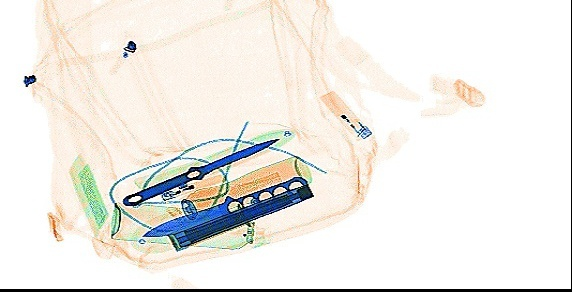knife: (121, 136, 282, 207), (139, 173, 309, 236)
lighter: (320, 89, 370, 139), (160, 170, 227, 201)
pressure: (176, 153, 313, 221), (107, 199, 270, 249)
